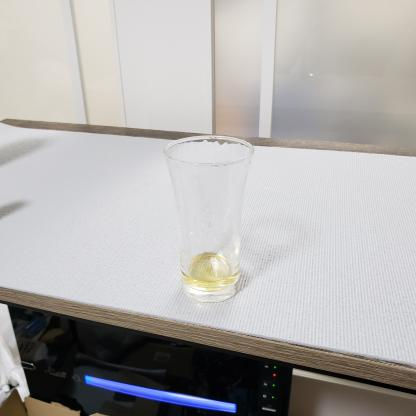glass: (157, 130, 274, 307)
